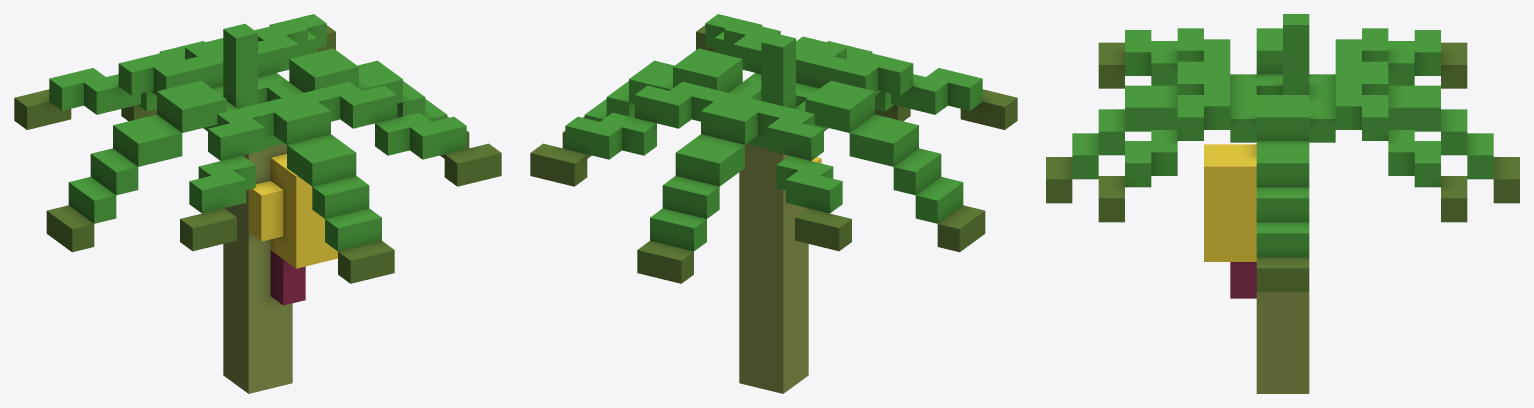
Rendered from r_bananas.glb.
3 views of the same model, side by side, from view 1: azimuth 30°, elevation 25°; view 2: azimuth 150°, elevation 25°; view 3: azimuth 270°, elevation 25° (orthographic). The views are drawn at different scales.
Visible parts, largest first — view 1: r_bananas_body; view 2: r_bananas_body; view 3: r_bananas_body.
Part boxes in pixels (bbox=[...]): r_bananas_body: bbox=[14, 14, 501, 393]; r_bananas_body: bbox=[530, 14, 1017, 393]; r_bananas_body: bbox=[1046, 14, 1519, 393].
Bounding box in the file's own units: 1.12 × 0.9375 × 1.12.
1 material, 1 textured.
